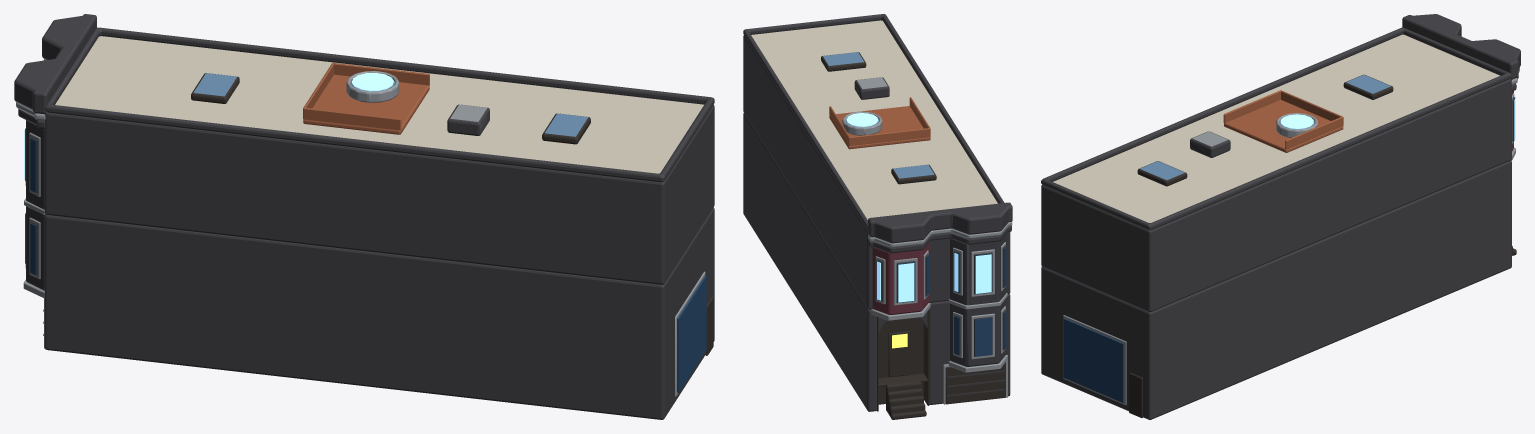
The model's file is 41-south-park.optimized.glb.
3 renders of one model, left to right at view 1: azimuth 30°, elevation 25°; view 2: azimuth 150°, elevation 25°; view 3: azimuth 270°, elevation 25°, orthographic. The views are drawn at different scales.
Visible parts, largest first — view 1: grp_Toy_roofd, body_upper, grp_Toy_rust, grp_Toy_glass, grp_Toy_steel, grp_Toy_glassl_Toy_ink, roof_hatch, grp_Toy_ink; view 2: body_upper, grp_Toy_roofd, grp_Toy_ink, grp_Toy_steel, grp_Toy_rust, grp_Toy_glass, bay_ne, grp_Toy_glass_Glow, grp_Toy_glassl_Toy_ink, roof_hatch, spa_glow; view 3: body_upper, grp_Toy_roofd, grp_Toy_rust, grp_Toy_glass, grp_Toy_glassl_Toy_ink, grp_Toy_steel, roof_hatch, grp_Toy_ink.
Boxes of the visible parts, x1,y1,x2,y2 form: grp_Toy_roofd: (14,14,714,419); body_upper: (44,36,714,284); grp_Toy_rust: (303,62,429,134); grp_Toy_glass: (25,129,706,392); grp_Toy_steel: (16,59,705,396); grp_Toy_glassl_Toy_ink: (191,73,590,144); roof_hatch: (447,104,489,135); grp_Toy_ink: (31,137,713,355); body_upper: (743,20,1010,309); grp_Toy_roofd: (743,14,1012,411); grp_Toy_ink: (877,245,1005,419); grp_Toy_steel: (842,111,1012,404); grp_Toy_rust: (829,97,930,149); grp_Toy_glass: (876,246,1006,356); bay_ne: (872,243,928,314); grp_Toy_glass_Glow: (877,253,991,302); grp_Toy_glassl_Toy_ink: (821,52,936,184); roof_hatch: (854,77,889,99); spa_glow: (846,113,878,126); body_upper: (1041,34,1511,311); grp_Toy_roofd: (1041,14,1520,419); grp_Toy_rust: (1223,90,1343,152); grp_Toy_glass: (1063,97,1515,402); grp_Toy_glassl_Toy_ink: (1137,74,1393,186); grp_Toy_steel: (1063,68,1519,405); roof_hatch: (1190,131,1230,157); grp_Toy_ink: (1129,97,1516,417).
Bounding box in the file's own units: 22.46 × 10.6 × 22.47.
